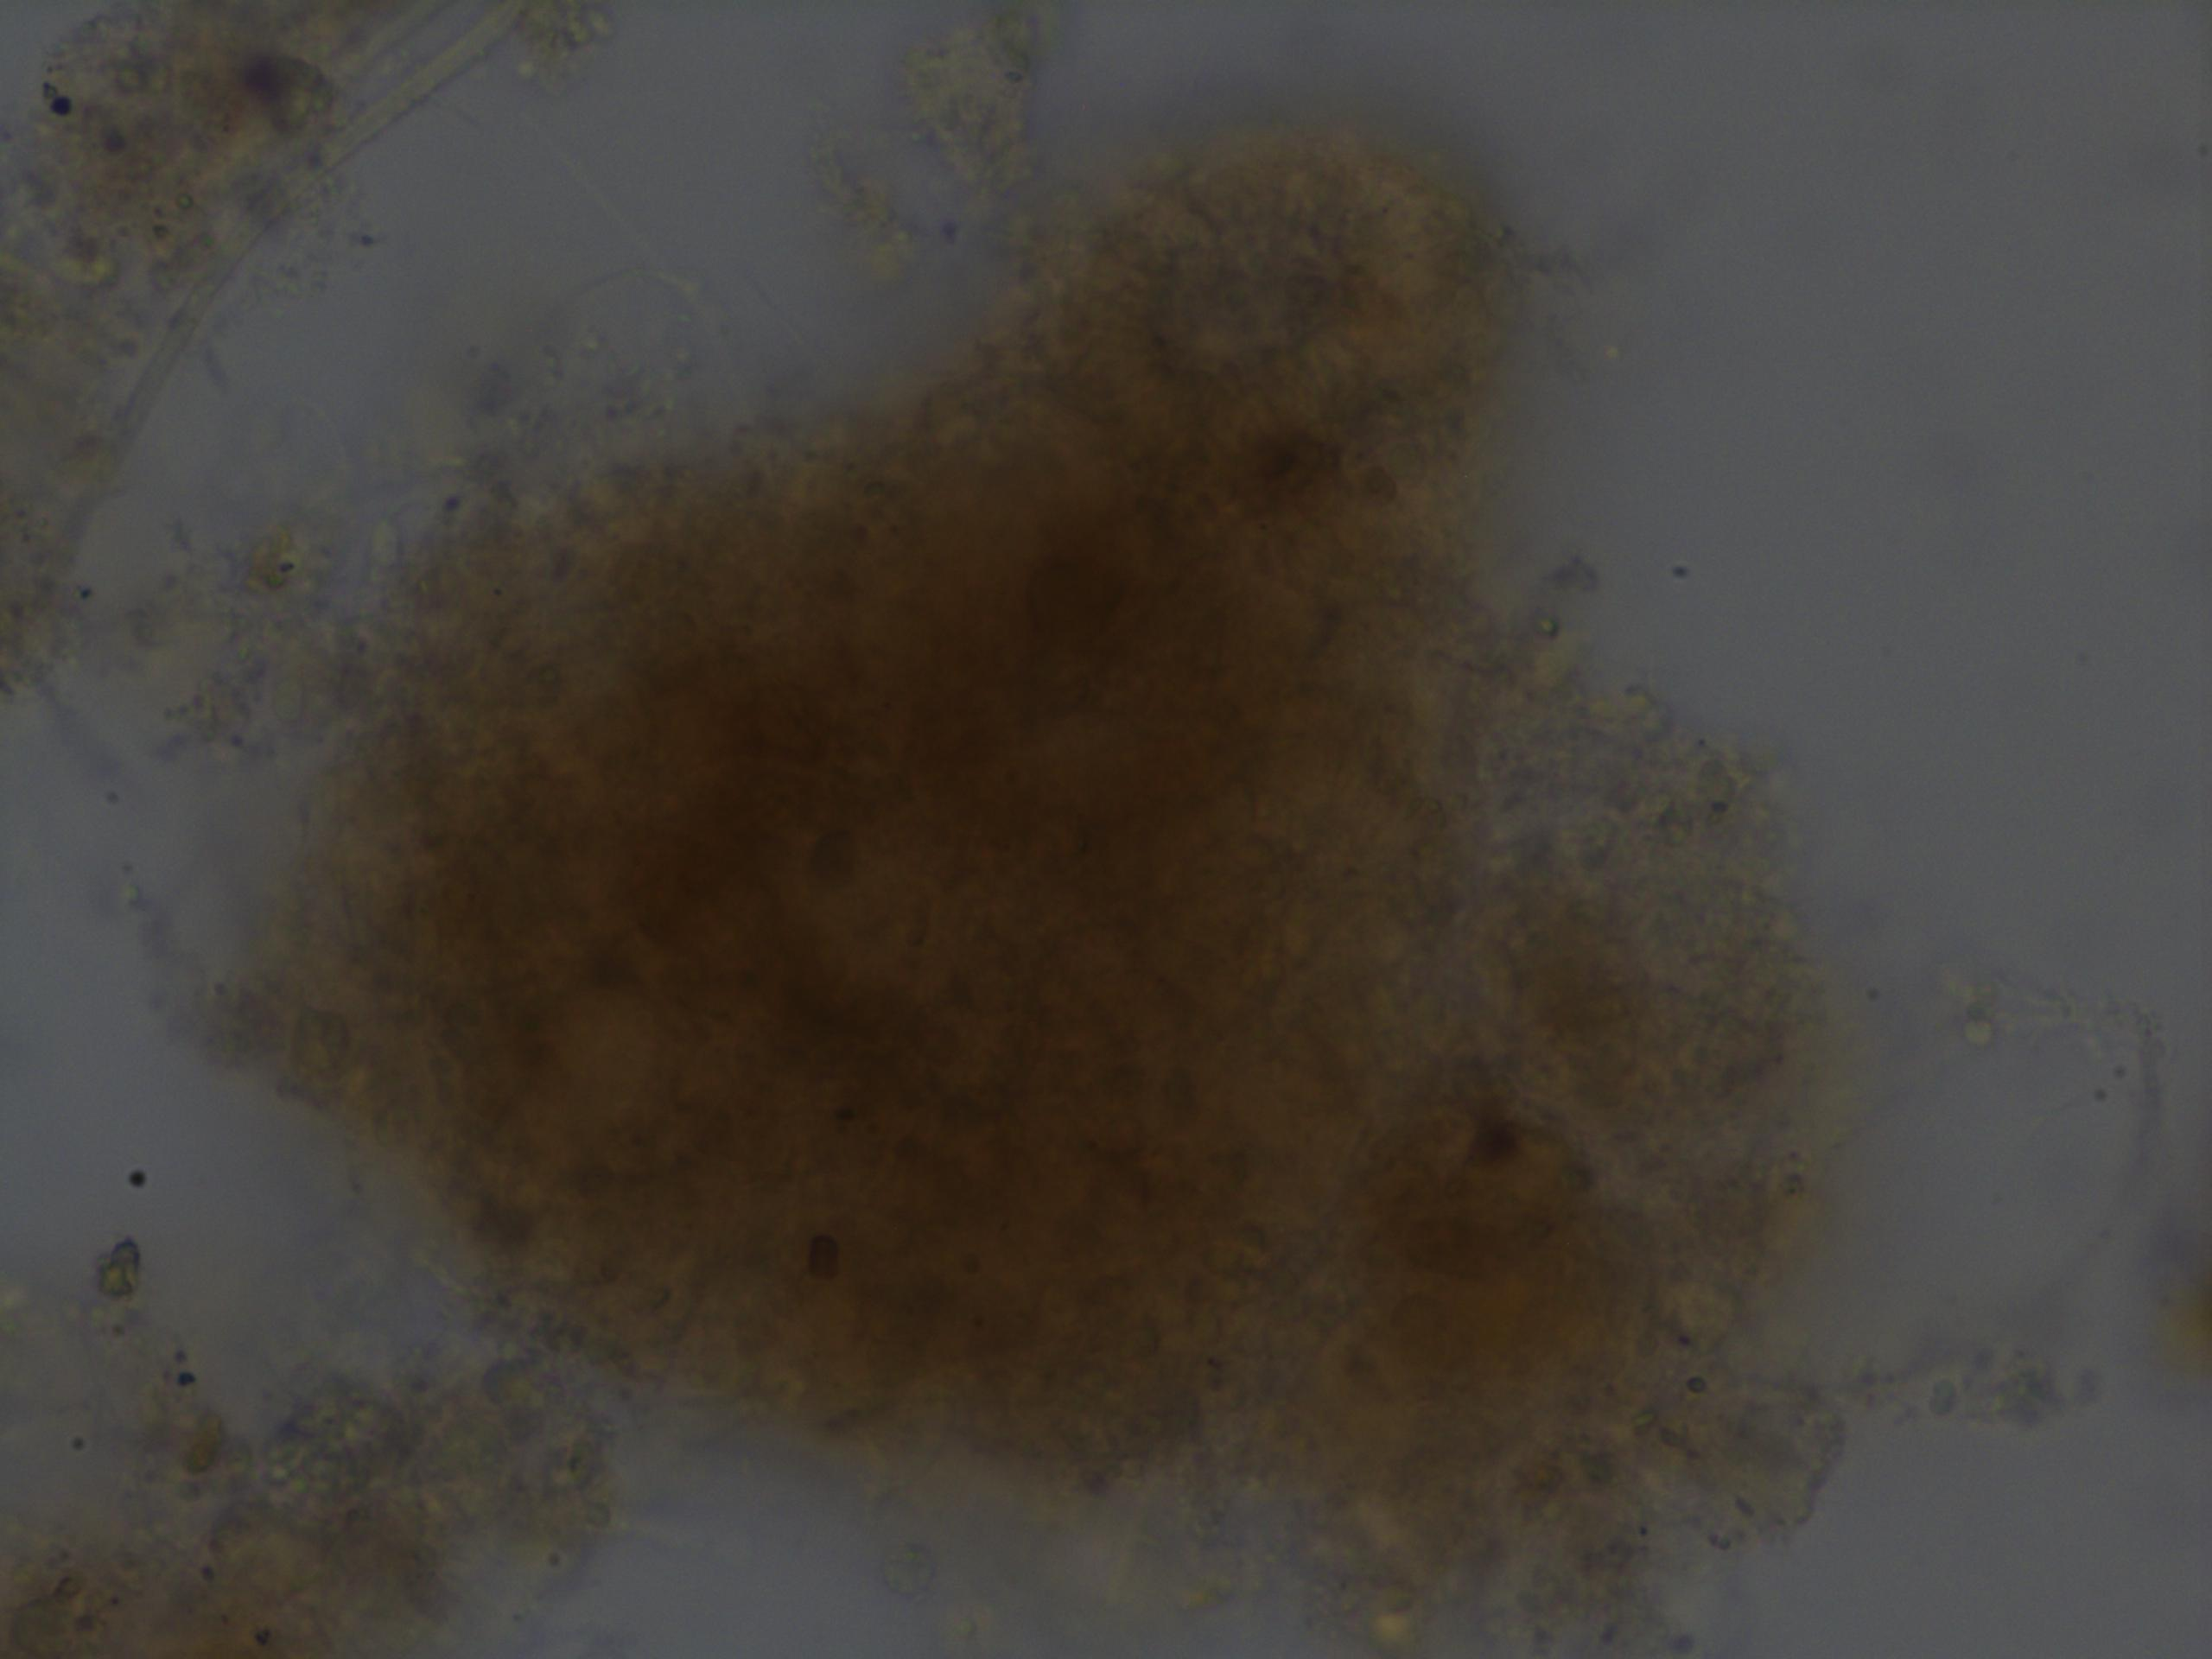filament: (0, 0, 552, 680)
spherical_floc: (256, 108, 1836, 1649)
